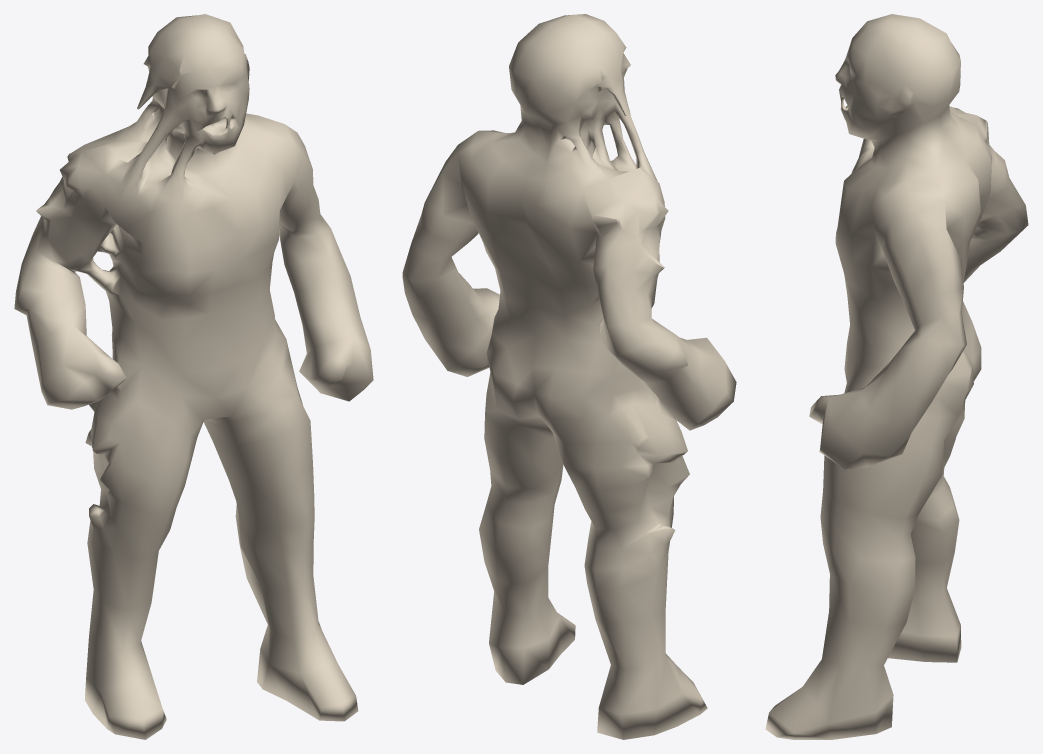
Rendered from body-alluvialclay.glb.
3 renders of one model, left to right at view 1: azimuth 30°, elevation 25°; view 2: azimuth 150°, elevation 25°; view 3: azimuth 270°, elevation 25°, orthographic.
Size of the model in its own units: 1.07 by 2.23 by 0.7886.
